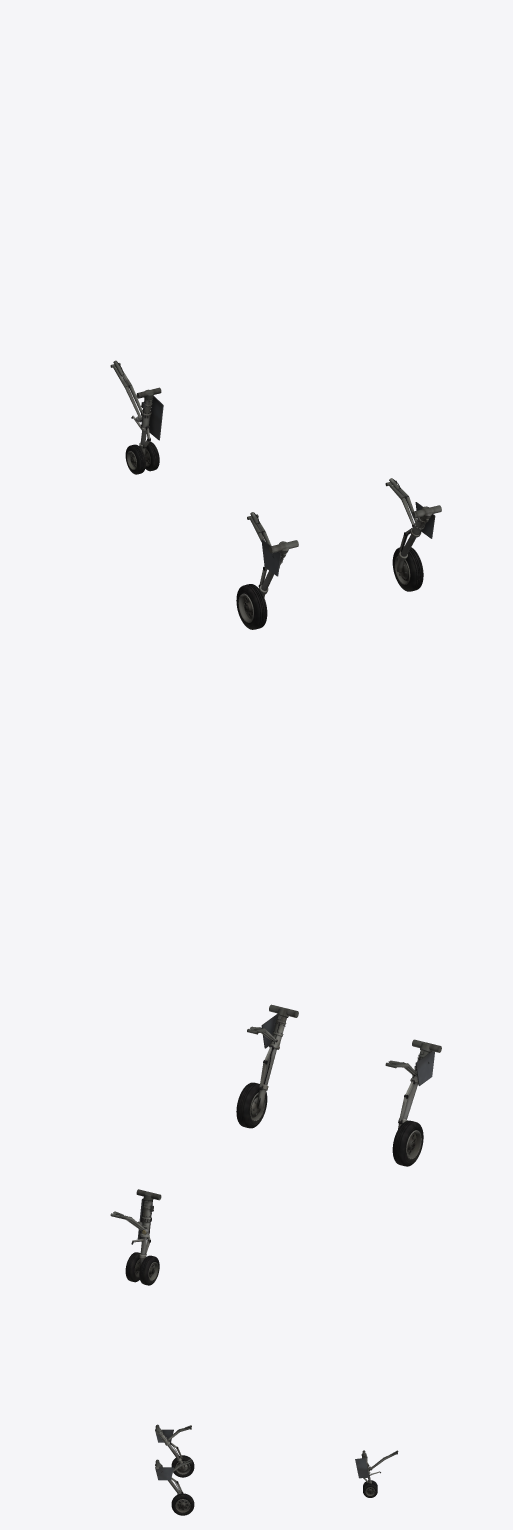
Rendered from e_rafale_gear.glb.
The picture shows the model from 3 angles, top to bottom: view 1: azimuth 30°, elevation 25°; view 2: azimuth 150°, elevation 25°; view 3: azimuth 270°, elevation 25°; orthographic projection. The views are drawn at different scales.
Visible parts, largest first — view 1: body|Rafale_paint; view 2: body|Rafale_paint; view 3: body|Rafale_paint.
Boxes of the visible parts, <box> form: body|Rafale_paint: <box>110,360,441,629</box>; body|Rafale_paint: <box>110,1004,441,1285</box>; body|Rafale_paint: <box>155,1424,398,1515</box>.
Size of the model in its own units: 3.08 by 6.31 by 15.27.
1 material, 1 textured.
